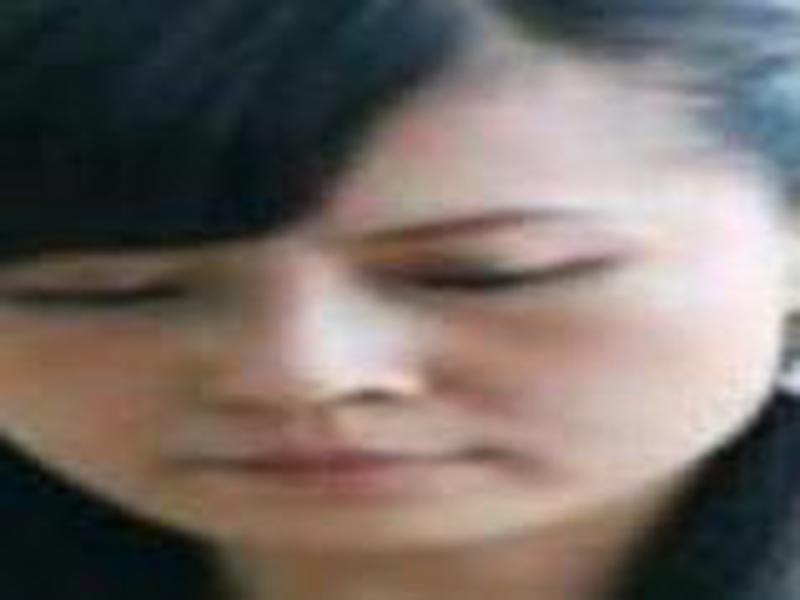without_mask: (6, 78, 785, 563)
